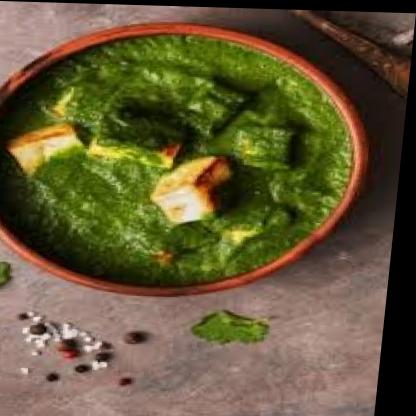palak_paneer: (0, 28, 366, 290)
